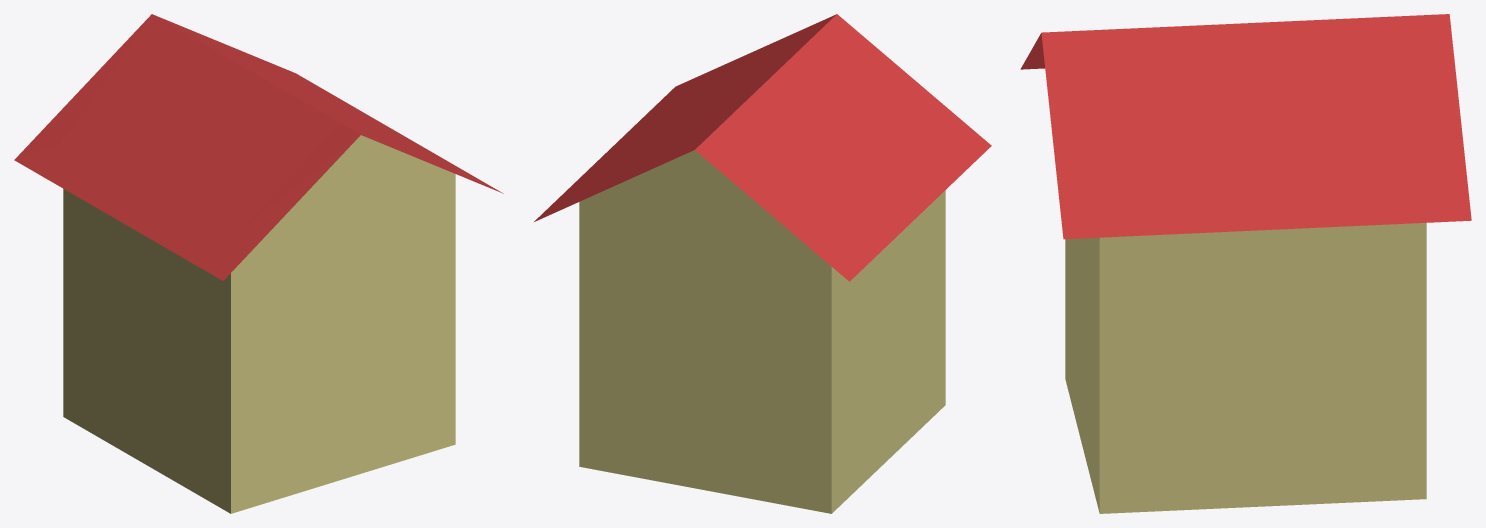
3 views of the same model, side by side, from view 1: azimuth 30°, elevation 25°; view 2: azimuth 150°, elevation 25°; view 3: azimuth 270°, elevation 25° (orthographic). The views are drawn at different scales.
Bounding box in the file's own units: 8.18 × 8.29 × 8.39.
